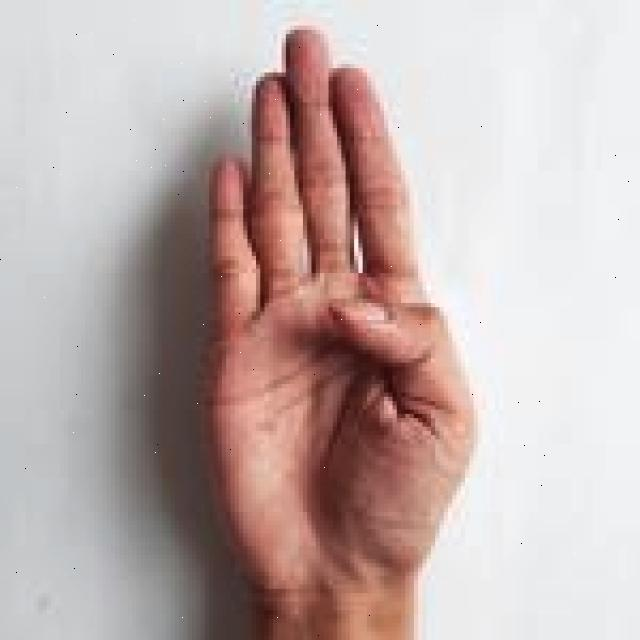B: (199, 23, 480, 635)
